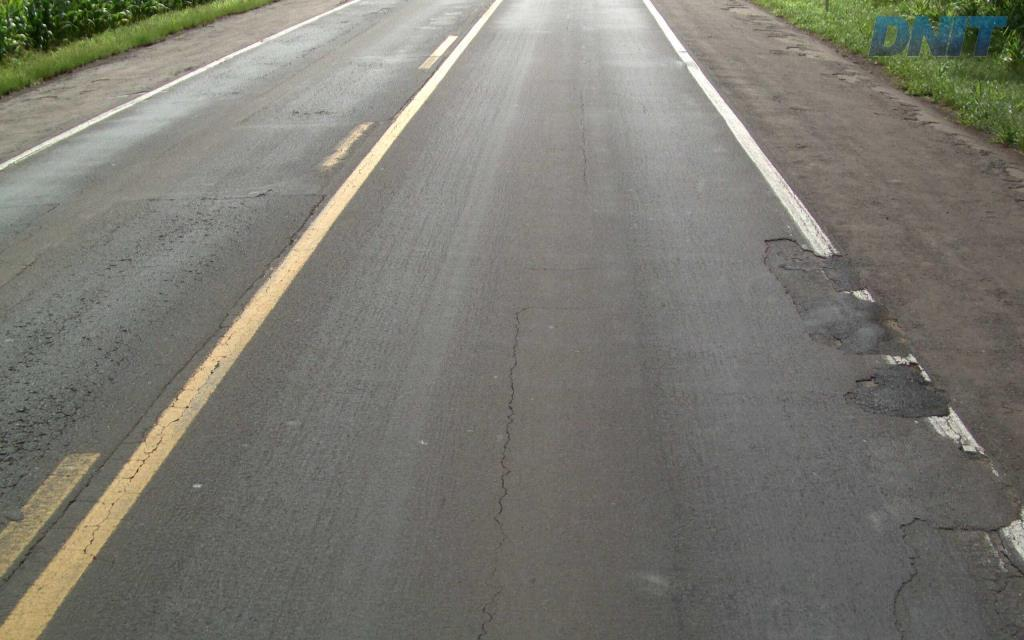crack: (494, 377, 514, 515)
pothole: (884, 511, 1022, 638), (759, 234, 852, 322), (848, 370, 885, 393)
